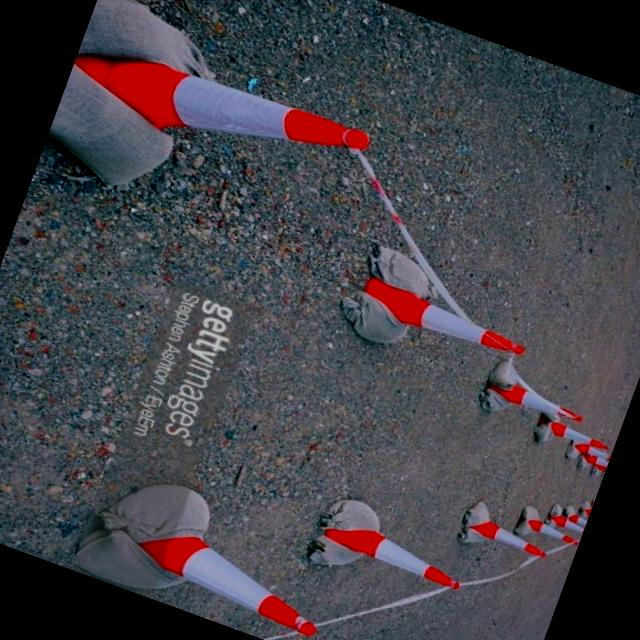cone: (56, 0, 385, 248), (333, 238, 564, 399), (96, 508, 355, 640), (315, 507, 475, 611)
